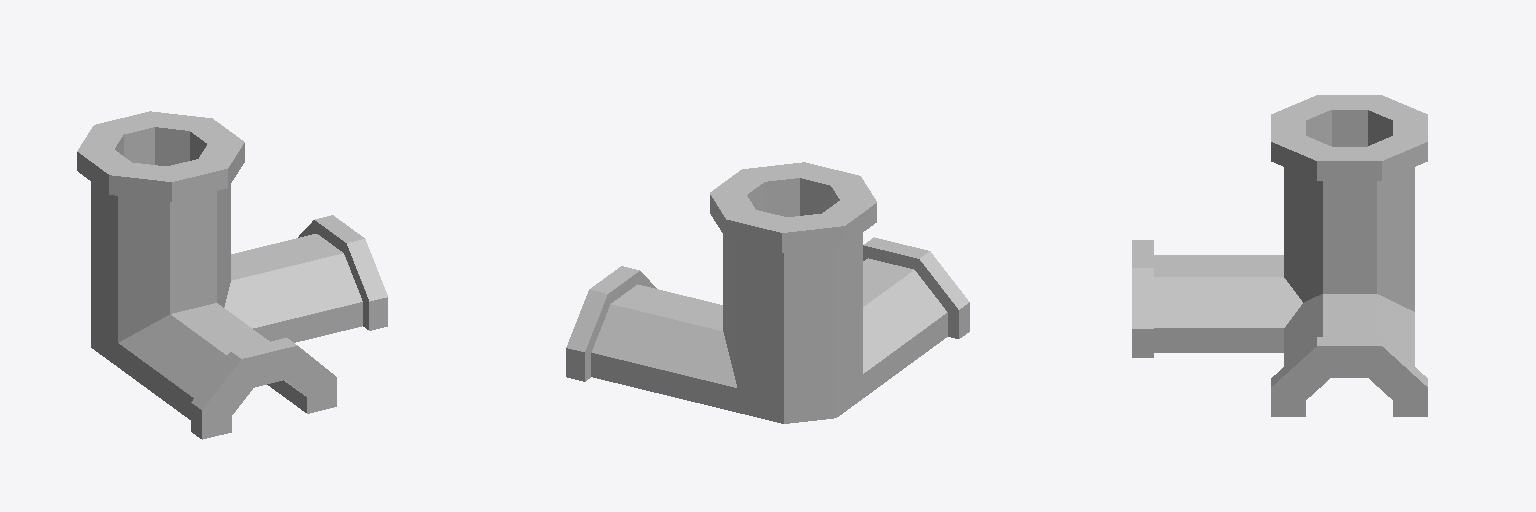
The model's file is Drain Pipe - L-shape.obj.
The picture shows the model from 3 angles: view 1: azimuth 30°, elevation 25°; view 2: azimuth 150°, elevation 25°; view 3: azimuth 270°, elevation 25°; orthographic projection.
Visible parts, largest first — view 1: Drain_Pipe_-_L-shape; view 2: Drain_Pipe_-_L-shape; view 3: Drain_Pipe_-_L-shape.
Part boxes in pixels (x1,y1,x2,y2): Drain_Pipe_-_L-shape: (77,111,387,439); Drain_Pipe_-_L-shape: (566,162,969,423); Drain_Pipe_-_L-shape: (1132,95,1427,416).
Bounding box in the file's own units: 0.68 × 0.5 × 0.68.